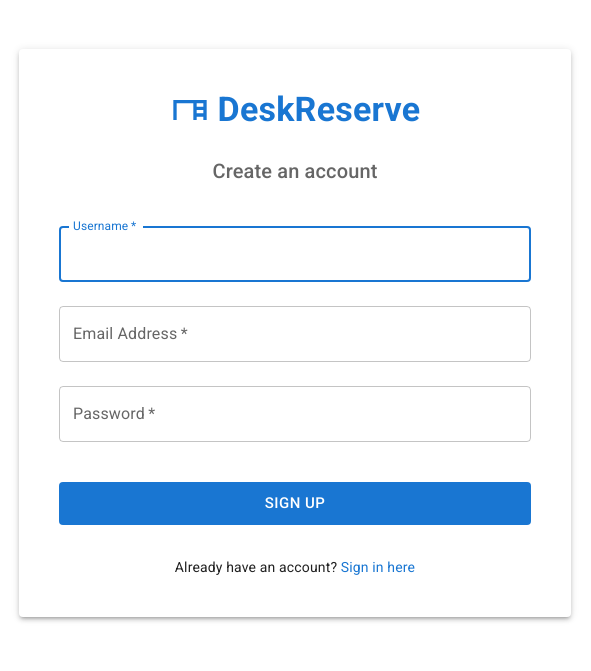
Register Component › 2. successfully registers and navigates to login
Type "newuser" into the field labelled "Username *". click: [295, 254]
box: [59, 226, 531, 282]
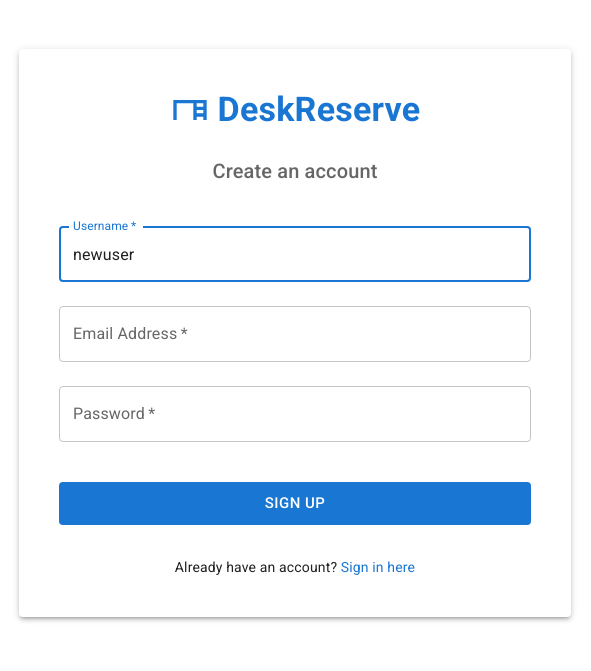
Type "test@test.com" into the field labelled "Email Address *". click: [295, 334]
box: [59, 306, 531, 362]
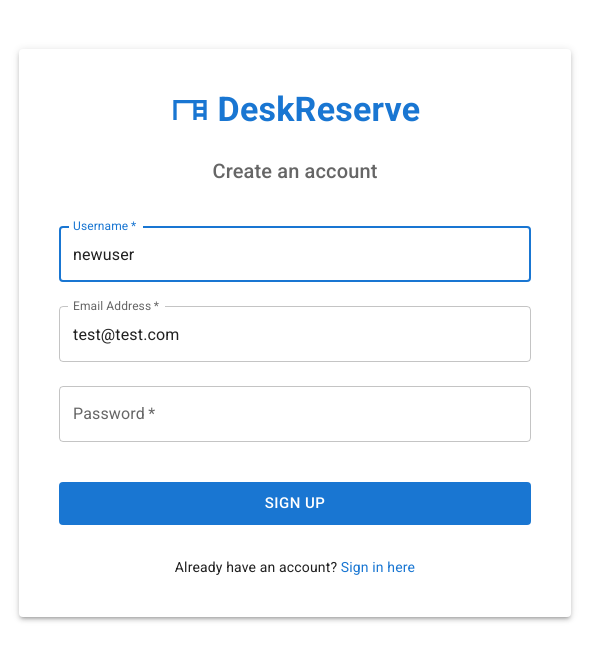
Type "secure123" into the password field labelled "Password *". click: [295, 414]
box: [59, 386, 531, 442]
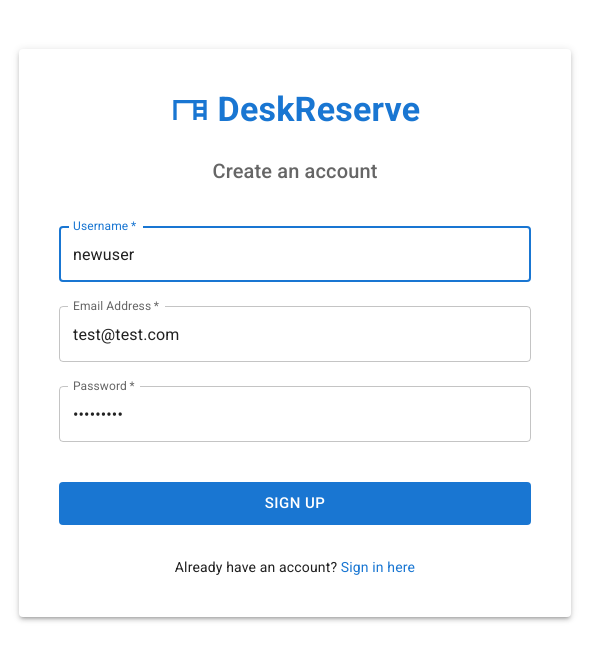
Click the button "Sign Up". click: [295, 504]
box: [59, 482, 531, 525]
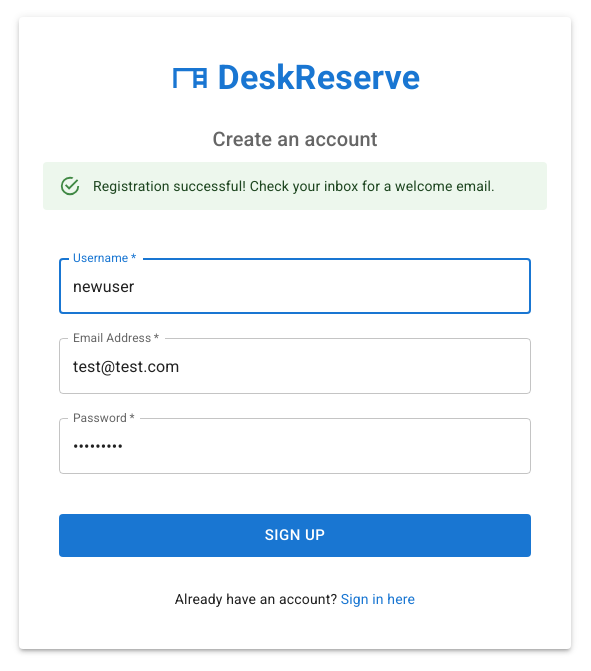
expect the text "Registration successful" is shown: met, box [93, 178, 495, 194]
